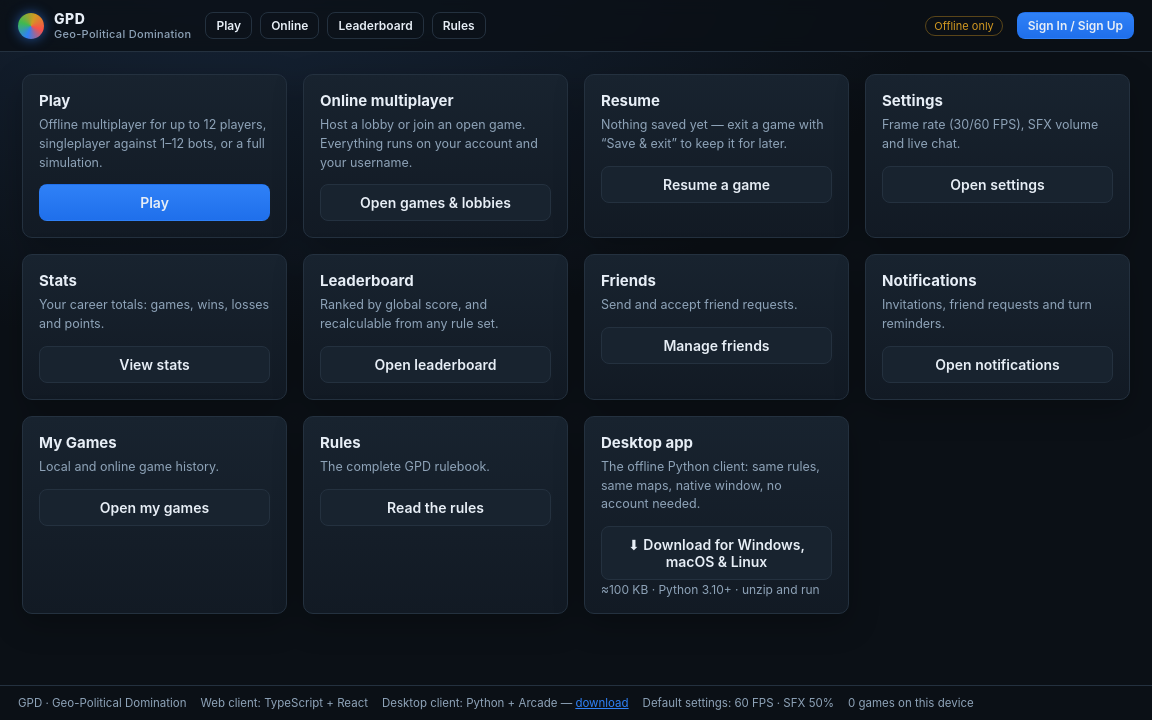
web client › requires an email address to sign in and to sign up
Click the button "Sign In / Sign Up" at point(1075, 26), box top-left (1017, 12), bottom-right (1134, 39)
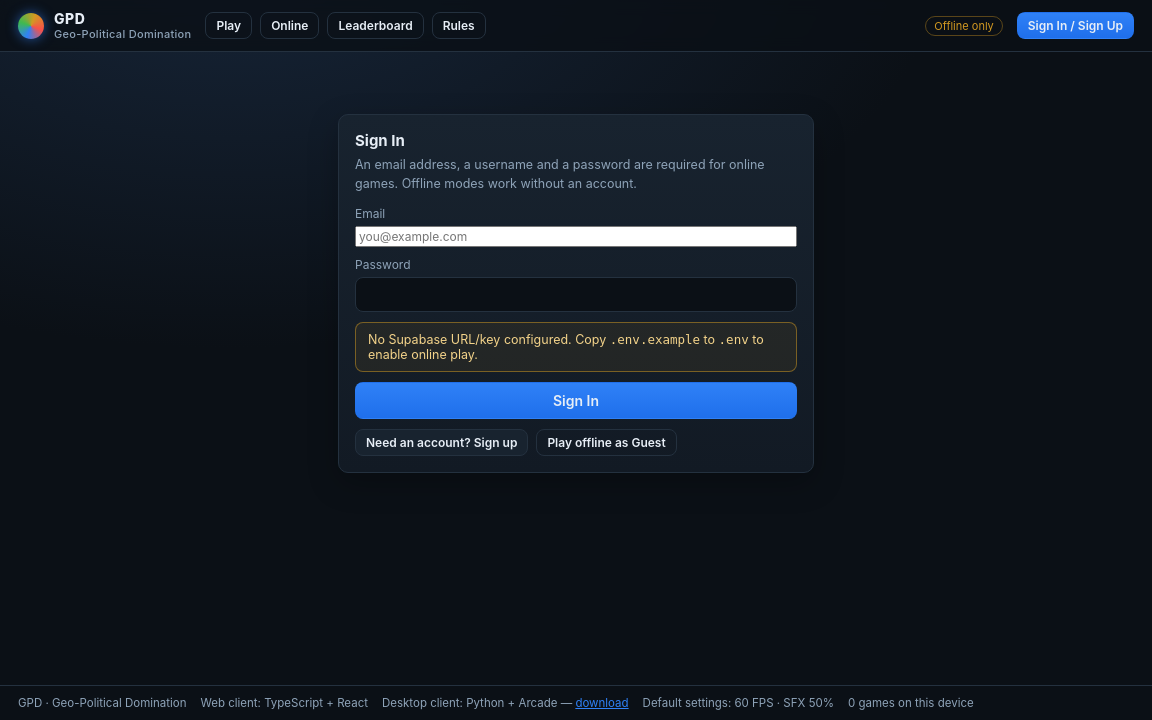
Check: the text "An email address, a username and a password" is shown, box top-left (355, 157), bottom-right (765, 191)
// Submitting with no email is rejected before any backend call.
Click the button "Sign In" at point(576, 400), box top-left (355, 382), bottom-right (797, 418)
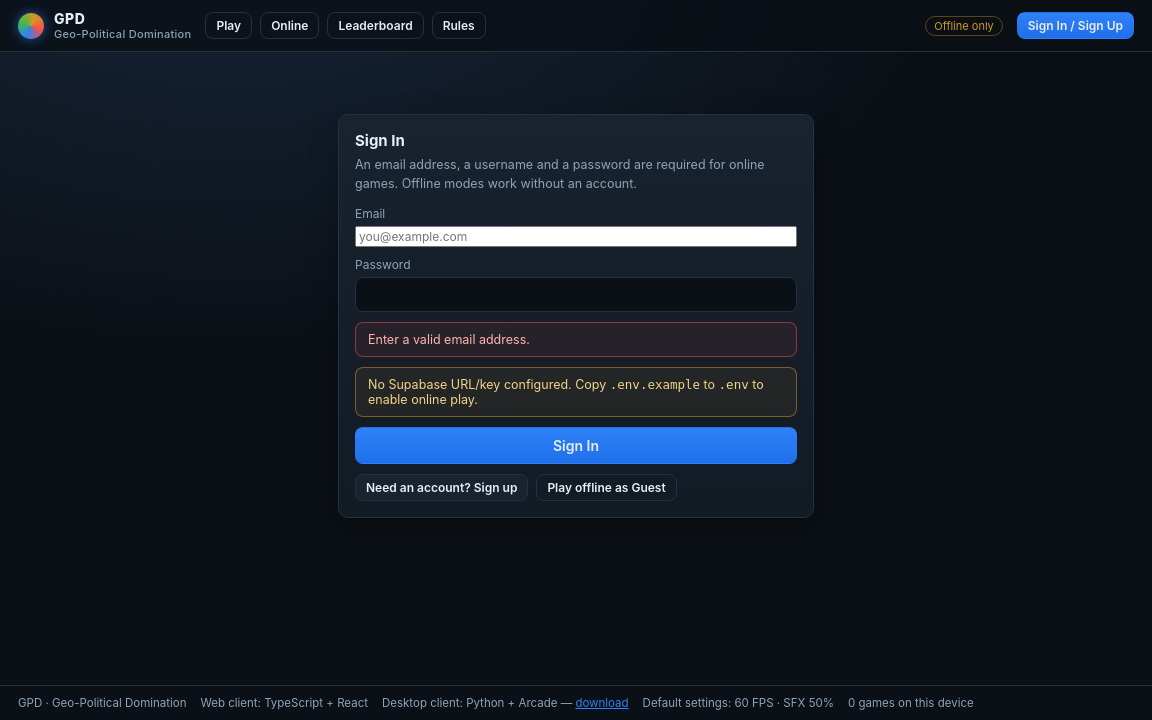
Check: the text "Enter a valid email address." is shown, box top-left (355, 322), bottom-right (797, 356)
